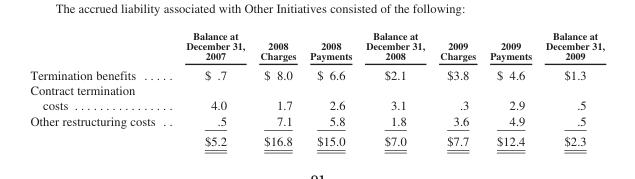table: (29, 29, 603, 147)
table column: (29, 29, 170, 147), (170, 29, 251, 147), (358, 29, 431, 147), (538, 29, 603, 147), (302, 29, 358, 147), (482, 29, 538, 147), (251, 29, 302, 147), (431, 29, 482, 147)
table column header: (29, 29, 603, 64)
table row: (29, 29, 603, 64), (29, 82, 603, 112), (29, 64, 603, 82), (29, 112, 603, 130), (29, 130, 603, 147)
